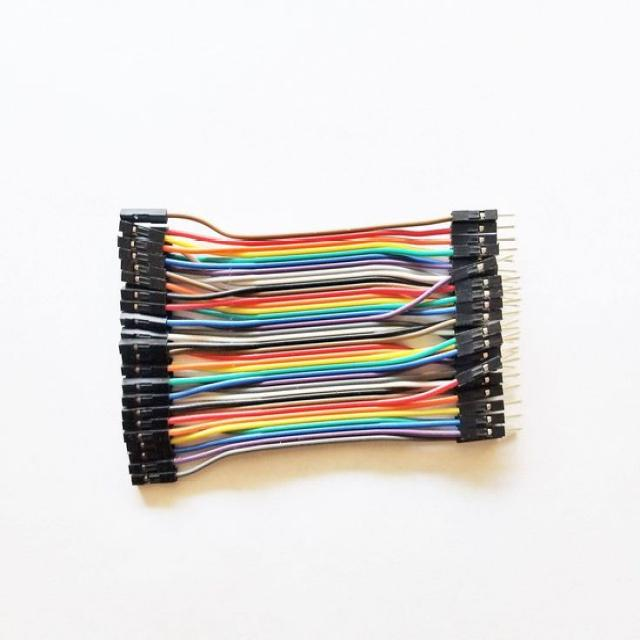Jumper Wires: (108, 185, 534, 504)
